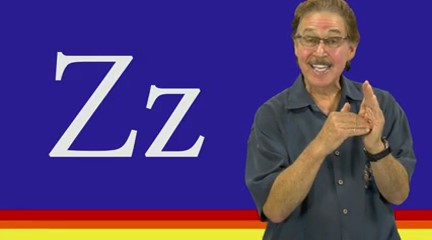Z: (316, 79, 388, 156)
